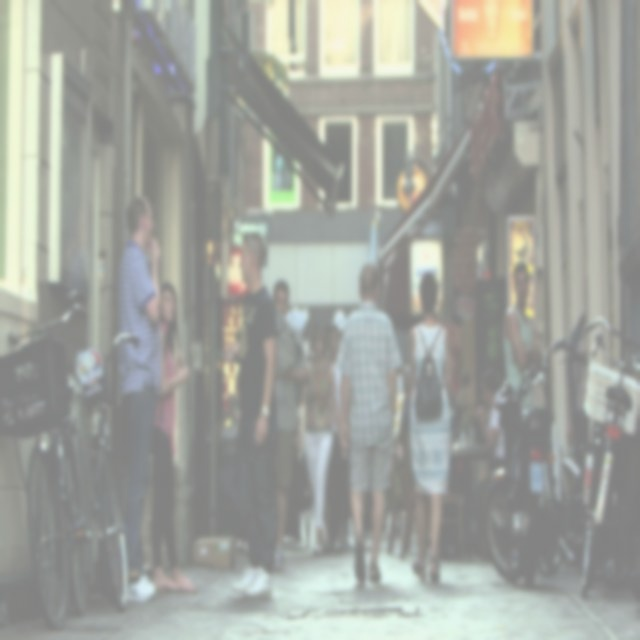pessoa: (337, 258, 405, 590), (223, 226, 279, 605), (113, 192, 163, 604), (406, 268, 456, 586), (148, 278, 198, 594), (270, 277, 312, 574), (296, 326, 348, 557), (462, 367, 516, 565), (501, 260, 544, 410), (324, 323, 350, 554), (440, 307, 470, 457), (572, 322, 589, 492), (398, 368, 418, 491)
